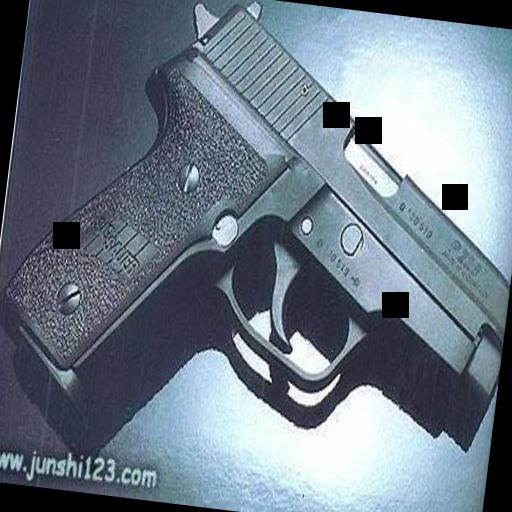Handgun: (0, 0, 512, 466)
